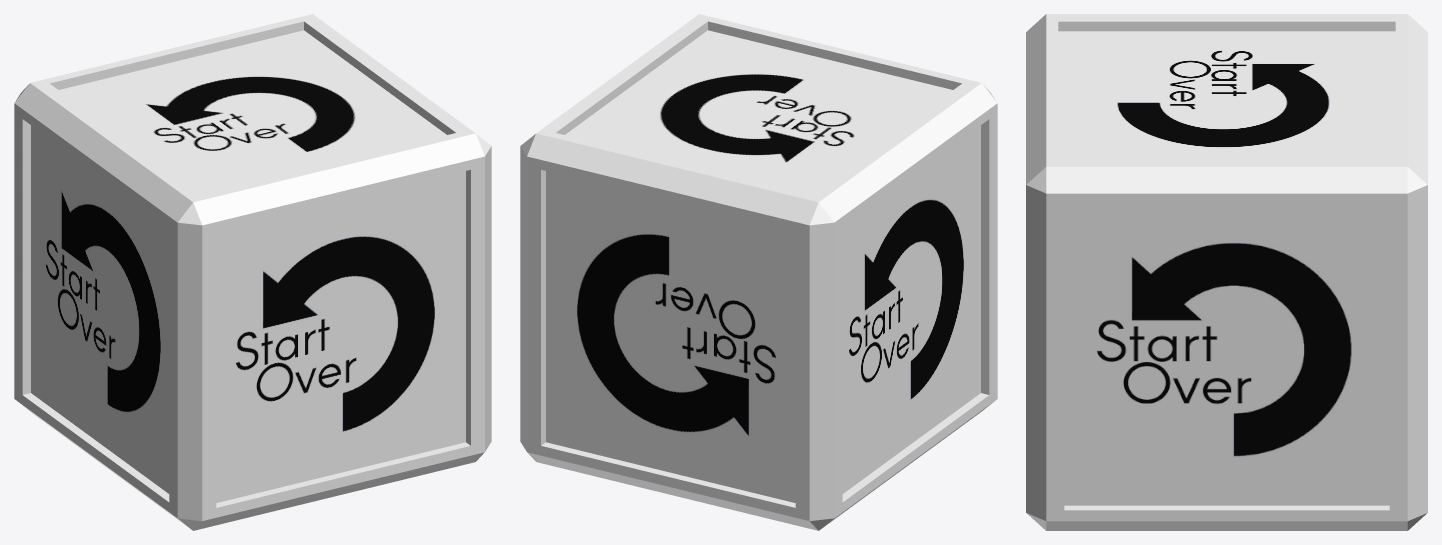
File: Cube_StartOver_01.fbx
3 renders of one model, left to right at view 1: azimuth 30°, elevation 25°; view 2: azimuth 150°, elevation 25°; view 3: azimuth 270°, elevation 25°, orthographic. The views are drawn at different scales.
Parts seen in each view (by area): view 1: pCube164; view 2: pCube164; view 3: pCube164.
Boxes of the visible parts, x1,y1,x2,y2 form: pCube164: [14, 14, 491, 530]; pCube164: [520, 14, 997, 530]; pCube164: [1026, 14, 1427, 530].
Bounding box in the file's own units: 8.6 × 8.6 × 8.6.
